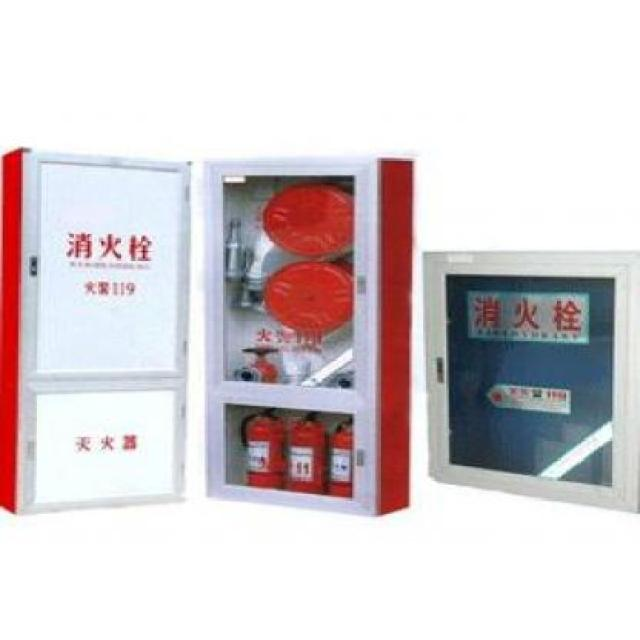firehydrant: (196, 146, 417, 519), (1, 143, 198, 515), (416, 245, 640, 519)
